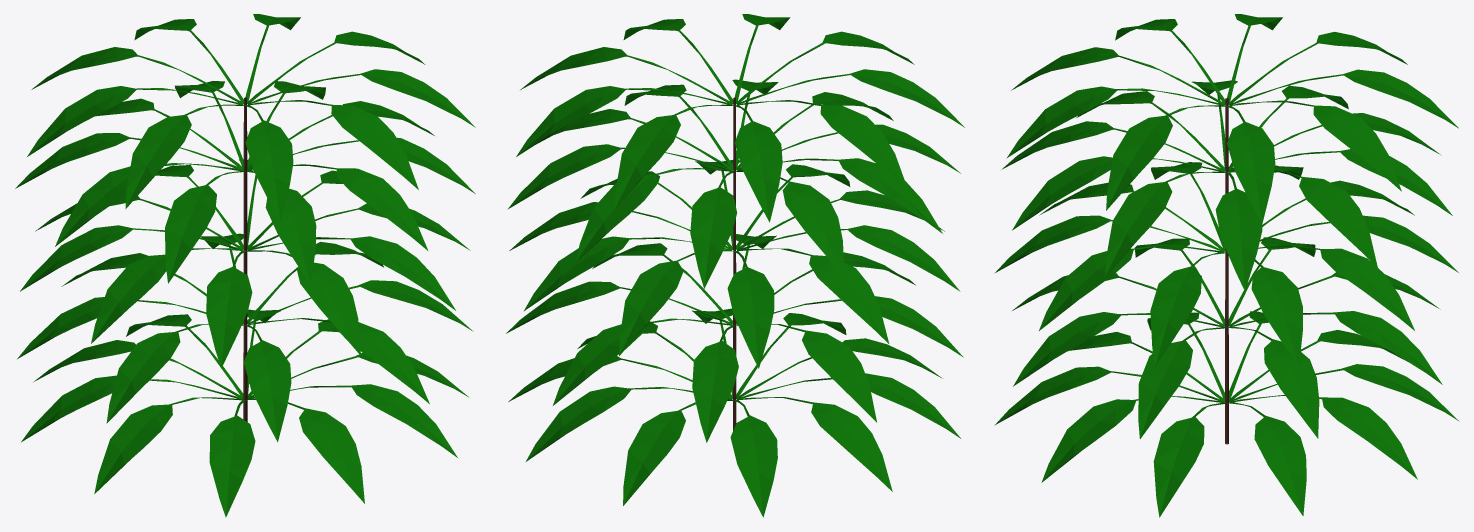
The model's file is small_plant.fbx.
3 renders of one model, left to right at view 1: azimuth 30°, elevation 25°; view 2: azimuth 150°, elevation 25°; view 3: azimuth 270°, elevation 25°, orthographic.
Parts seen in each view (by area): view 1: Circle; view 2: Circle; view 3: Circle.
Part boxes in pixels (<box>): Circle: <box>15,14,475,517</box>; Circle: <box>506,14,964,517</box>; Circle: <box>994,14,1459,517</box>.
Size of the model in its own units: 56.52 by 49.73 by 56.69.
